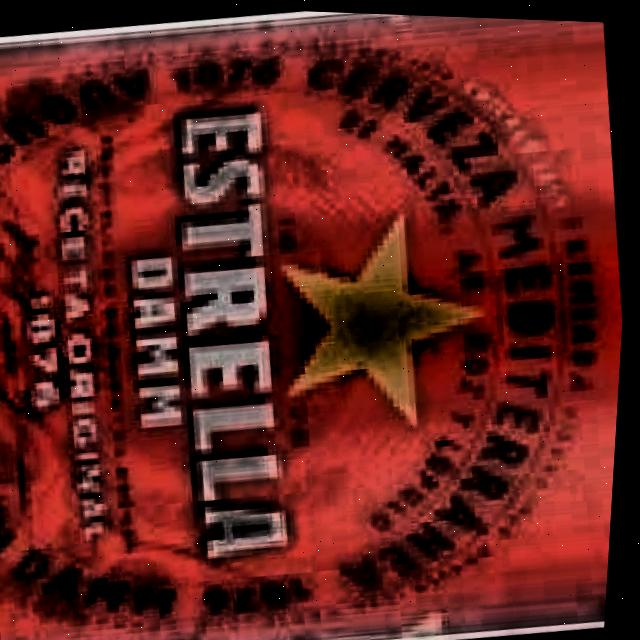metal: (0, 9, 626, 640)
